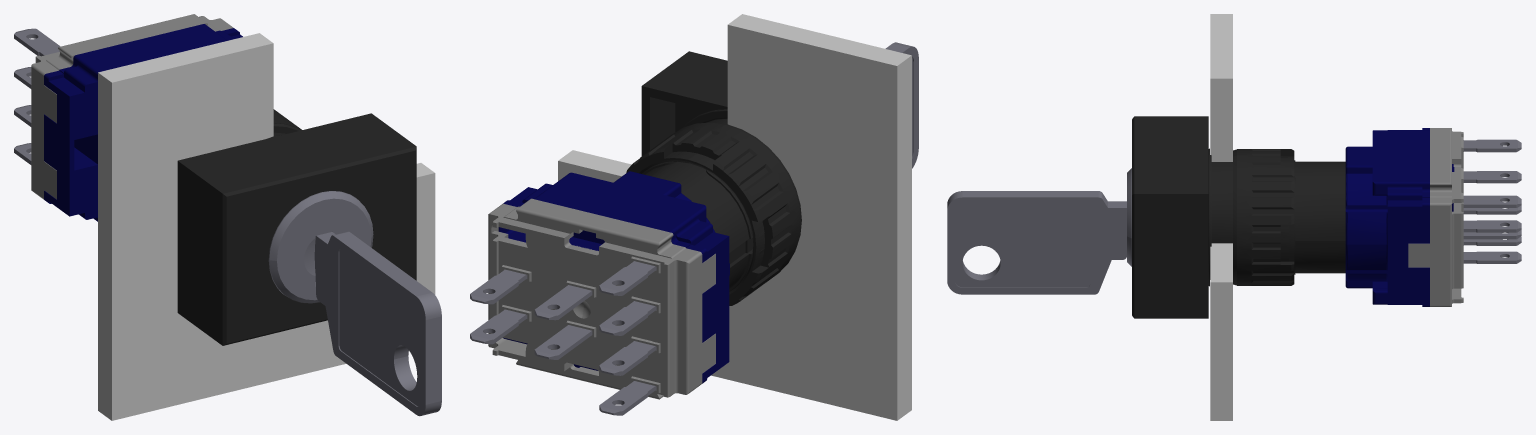
Rendered from keyActuatorEao61.glb.
The picture shows the model from 3 angles, left to right: view 1: azimuth 30°, elevation 25°; view 2: azimuth 150°, elevation 25°; view 3: azimuth 270°, elevation 25°; orthographic projection. The views are drawn at different scales.
Visible parts, largest first — view 1: cad_15_SOLID, cad_17_SOLID, cad_3_SOLID, cad_6_SOLID, cad_0_SOLID, cad_5_SOLID, cad_13_SOLID, cad_16_SOLID; view 2: cad_15_SOLID, cad_5_SOLID, cad_6_SOLID, cad_16_SOLID, cad_17_SOLID, cad_2_SOLID, cad_8_SOLID, cad_7_SOLID, cad_10_SOLID, cad_12_SOLID, cad_13_SOLID, cad_14_SOLID (+3 smaller); view 3: cad_3_SOLID, cad_17_SOLID, cad_6_SOLID, cad_16_SOLID, cad_2_SOLID, cad_15_SOLID, cad_5_SOLID, cad_13_SOLID, cad_8_SOLID, cad_10_SOLID, cad_11_SOLID, cad_12_SOLID.
Boxes of the visible parts, x1=… form: cad_15_SOLID: x1=98, y1=33, x2=435, y2=420; cad_17_SOLID: x1=177, y1=113, x2=416, y2=345; cad_3_SOLID: x1=314, y1=231, x2=441, y2=416; cad_6_SOLID: x1=44, y1=24, x2=242, y2=221; cad_0_SOLID: x1=268, y1=191, x2=373, y2=303; cad_5_SOLID: x1=31, y1=14, x2=233, y2=199; cad_13_SOLID: x1=14, y1=28, x2=60, y2=56; cad_16_SOLID: x1=273, y1=109, x2=301, y2=133; cad_15_SOLID: x1=558, y1=14, x2=911, y2=420; cad_5_SOLID: x1=488, y1=198, x2=715, y2=399; cad_6_SOLID: x1=498, y1=171, x2=729, y2=383; cad_16_SOLID: x1=626, y1=122, x2=801, y2=305; cad_17_SOLID: x1=641, y1=51, x2=727, y2=155; cad_2_SOLID: x1=642, y1=119, x2=764, y2=291; cad_8_SOLID: x1=534, y1=285, x2=592, y2=320; cad_7_SOLID: x1=534, y1=325, x2=592, y2=359; cad_10_SOLID: x1=470, y1=269, x2=527, y2=304; cad_12_SOLID: x1=599, y1=301, x2=656, y2=335; cad_13_SOLID: x1=599, y1=261, x2=656, y2=295; cad_14_SOLID: x1=599, y1=341, x2=656, y2=375; cad_3_SOLID: x1=947, y1=191, x2=1126, y2=294; cad_17_SOLID: x1=1132, y1=116, x2=1208, y2=318; cad_6_SOLID: x1=1345, y1=128, x2=1454, y2=306; cad_16_SOLID: x1=1233, y1=149, x2=1294, y2=285; cad_2_SOLID: x1=1211, y1=157, x2=1345, y2=274; cad_15_SOLID: x1=1210, y1=14, x2=1232, y2=420; cad_5_SOLID: x1=1408, y1=128, x2=1463, y2=306; cad_13_SOLID: x1=1463, y1=139, x2=1521, y2=152; cad_8_SOLID: x1=1463, y1=195, x2=1521, y2=207; cad_10_SOLID: x1=1463, y1=220, x2=1521, y2=232; cad_11_SOLID: x1=1463, y1=251, x2=1521, y2=263; cad_12_SOLID: x1=1463, y1=171, x2=1521, y2=183.
Bounding box in the file's own units: 0.04 × 0.04 × 0.0751.
